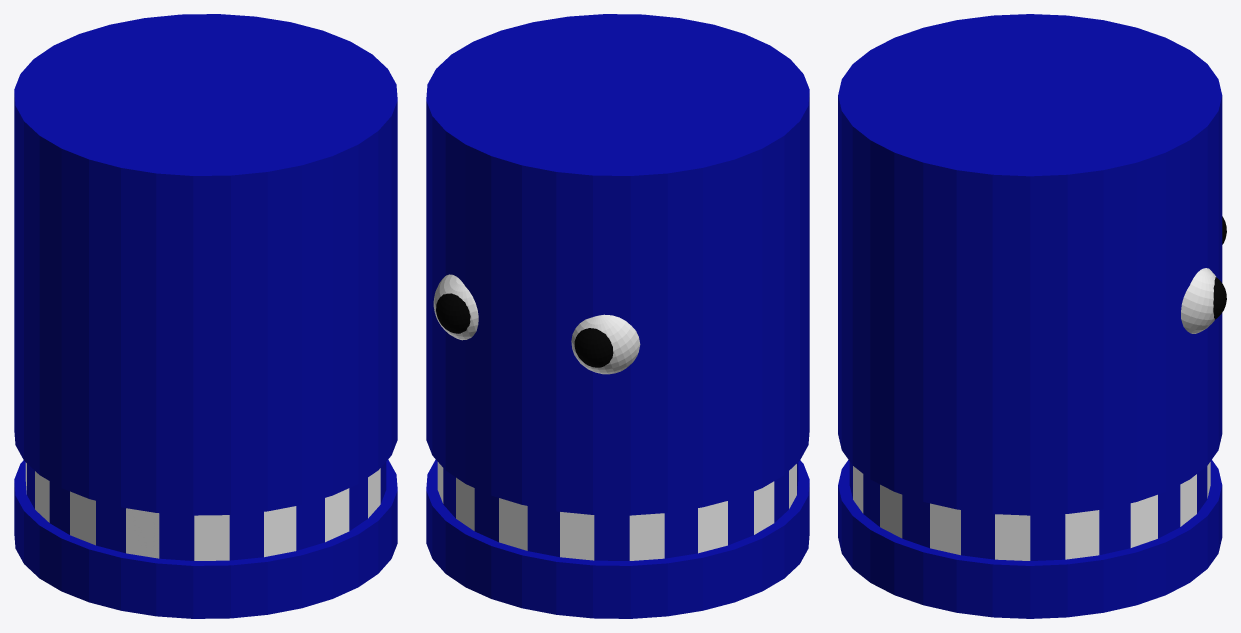
File: Capacitor.fbx
3 renders of one model, left to right at view 1: azimuth 30°, elevation 25°; view 2: azimuth 150°, elevation 25°; view 3: azimuth 270°, elevation 25°, orthographic.
Visible parts, largest first — view 1: Cylinder.003, Cylinder.001, Cylinder.002; view 2: Cylinder.003, Cylinder.001, Cylinder.002, Sphere.003, Sphere.004, Sphere.002, Sphere.005; view 3: Cylinder.003, Cylinder.001, Cylinder.002, Sphere.002.
Boxes of the visible parts, left/top/right/bottom form: Cylinder.003: left=14, top=14, right=397, bottom=515; Cylinder.001: left=14, top=459, right=397, bottom=618; Cylinder.002: left=25, top=462, right=386, bottom=560; Cylinder.003: left=426, top=14, right=809, bottom=515; Cylinder.001: left=426, top=459, right=809, bottom=618; Cylinder.002: left=437, top=462, right=798, bottom=560; Sphere.003: left=571, top=314, right=640, bottom=374; Sphere.004: left=574, top=328, right=613, bottom=367; Sphere.002: left=433, top=274, right=478, bottom=340; Sphere.005: left=436, top=293, right=470, bottom=333; Cylinder.003: left=838, top=14, right=1222, bottom=515; Cylinder.001: left=838, top=460, right=1222, bottom=618; Cylinder.002: left=849, top=461, right=1210, bottom=560; Sphere.002: left=1181, top=268, right=1215, bottom=333.
Size of the model in its own units: 200 by 254 by 202.
